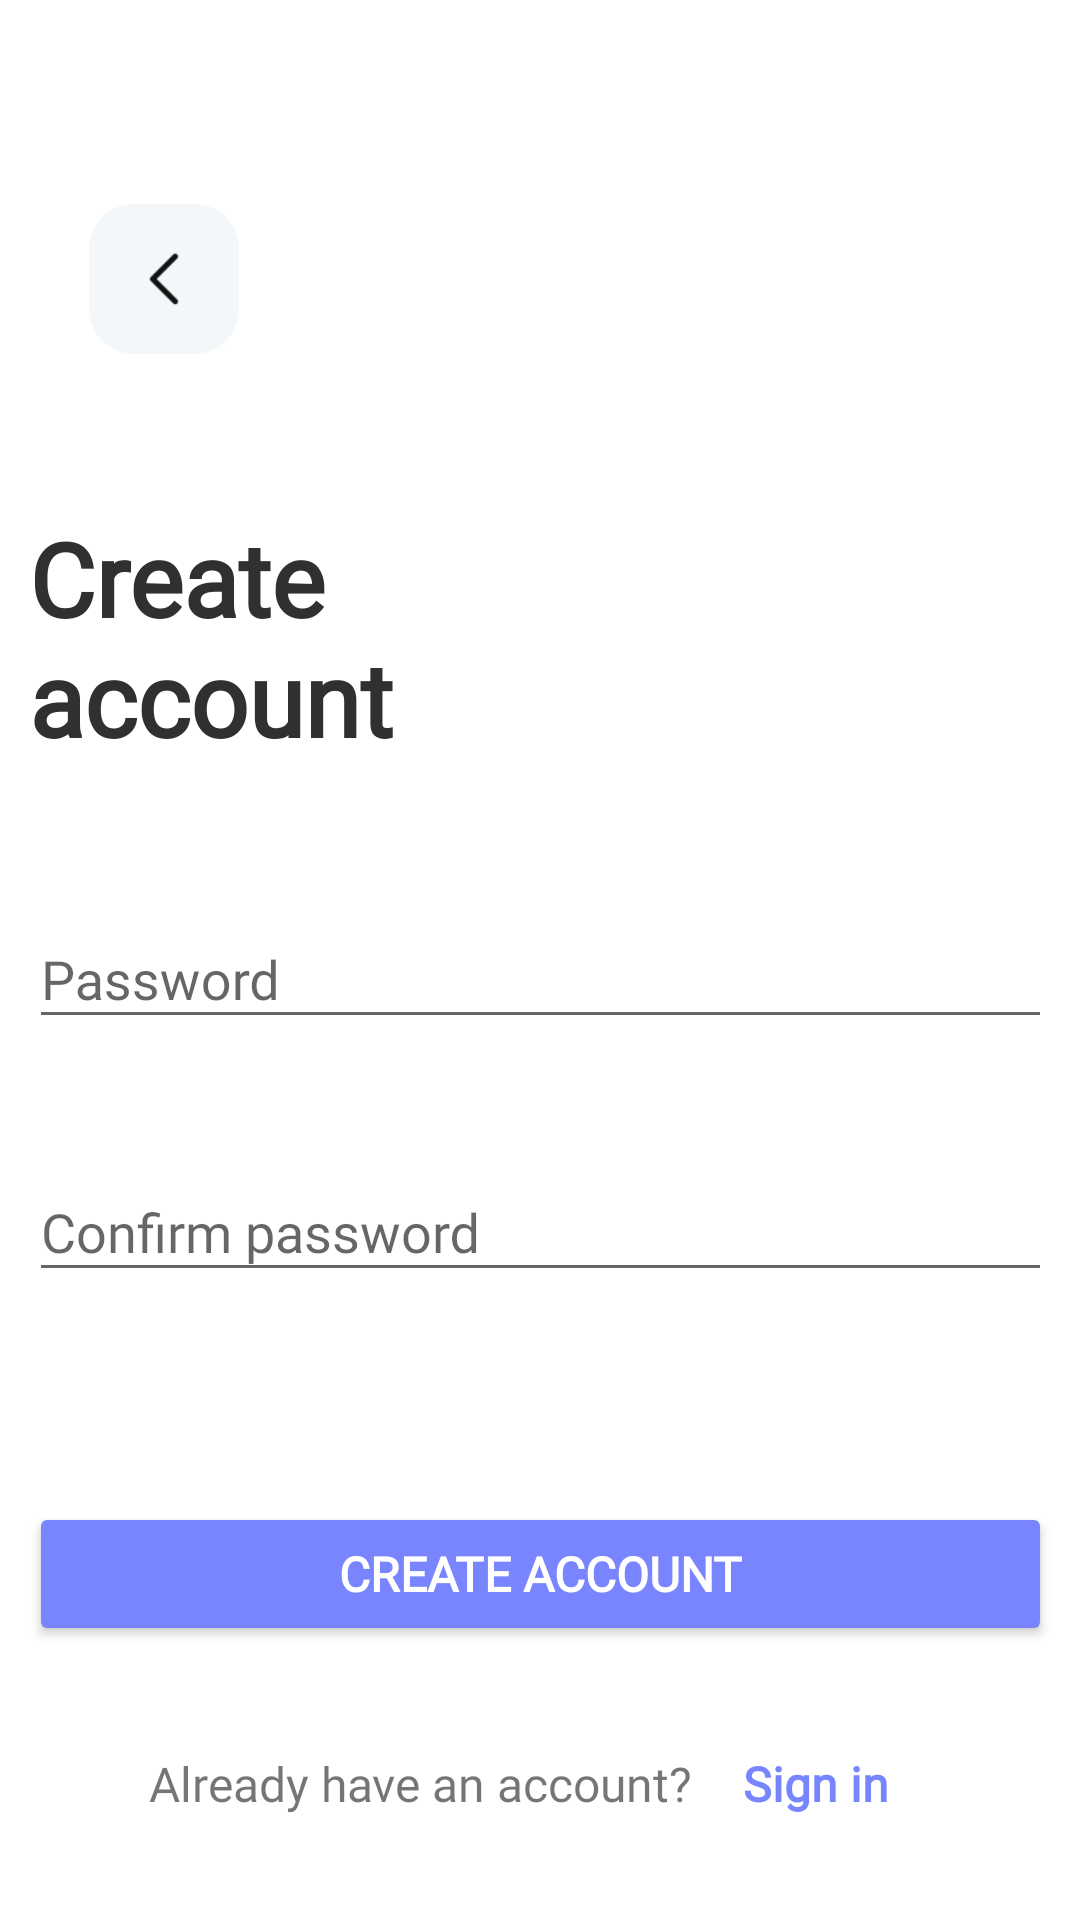

Icon bounding boxes for this 1080 x 1920 phone screenshot, format (x1, y1, x2, y2):
back: (89, 204, 239, 354)
